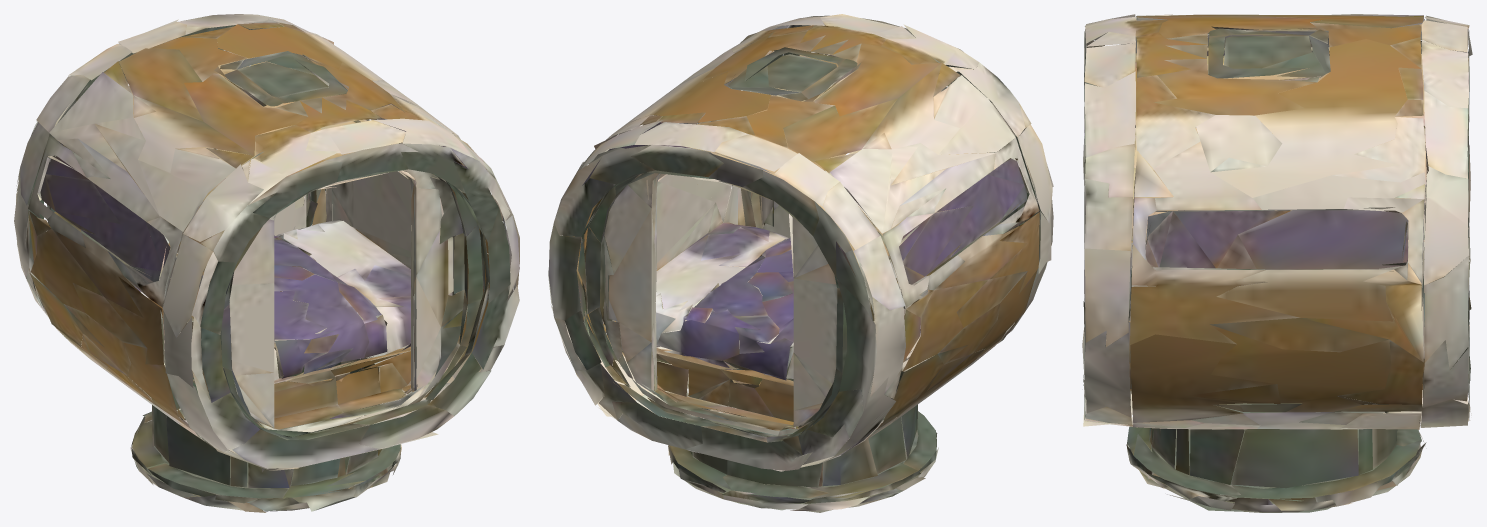
The model's file is sleep_pod.glb.
The picture shows the model from 3 angles, left to right: view 1: azimuth 30°, elevation 25°; view 2: azimuth 150°, elevation 25°; view 3: azimuth 270°, elevation 25°; orthographic projection. The views are drawn at different scales.
Visible parts, largest first — view 1: Mesh_0; view 2: Mesh_0; view 3: Mesh_0.
Part boxes in pixels (x1=…): Mesh_0: x1=14, y1=14, x2=519, y2=512; Mesh_0: x1=548, y1=14, x2=1053, y2=512; Mesh_0: x1=1082, y1=14, x2=1472, y2=512.
Size of the model in its own units: 0.8798 by 0.9051 by 0.7741.
1 material, 1 textured.
